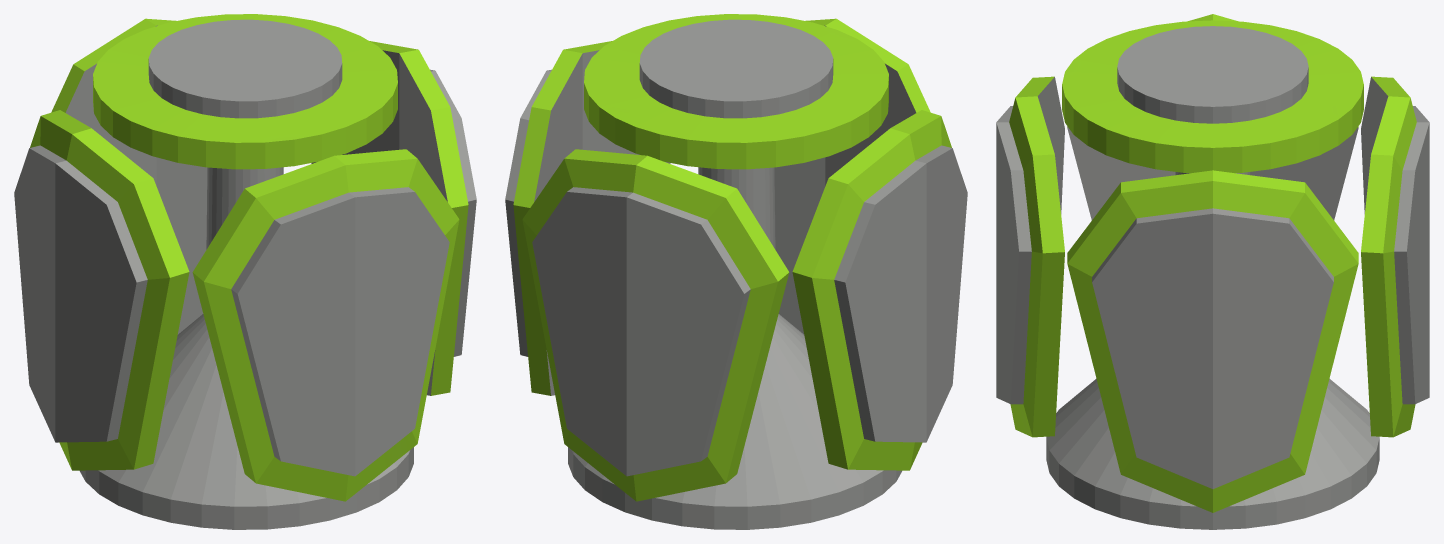
File: barrier_basic.fbx
3 views of the same model, side by side, from view 1: azimuth 30°, elevation 25°; view 2: azimuth 150°, elevation 25°; view 3: azimuth 270°, elevation 25° (orthographic).
Parts seen in each view (by area): view 1: Circle; view 2: Circle; view 3: Circle.
Part boxes in pixels (box(x1,y1,x2,y2)): Circle: box(14, 14, 476, 529); Circle: box(505, 14, 967, 529); Circle: box(996, 14, 1429, 529).
Size of the model in its own units: 446 by 446 by 446.
Materials: 1 (1 with a texture image).
